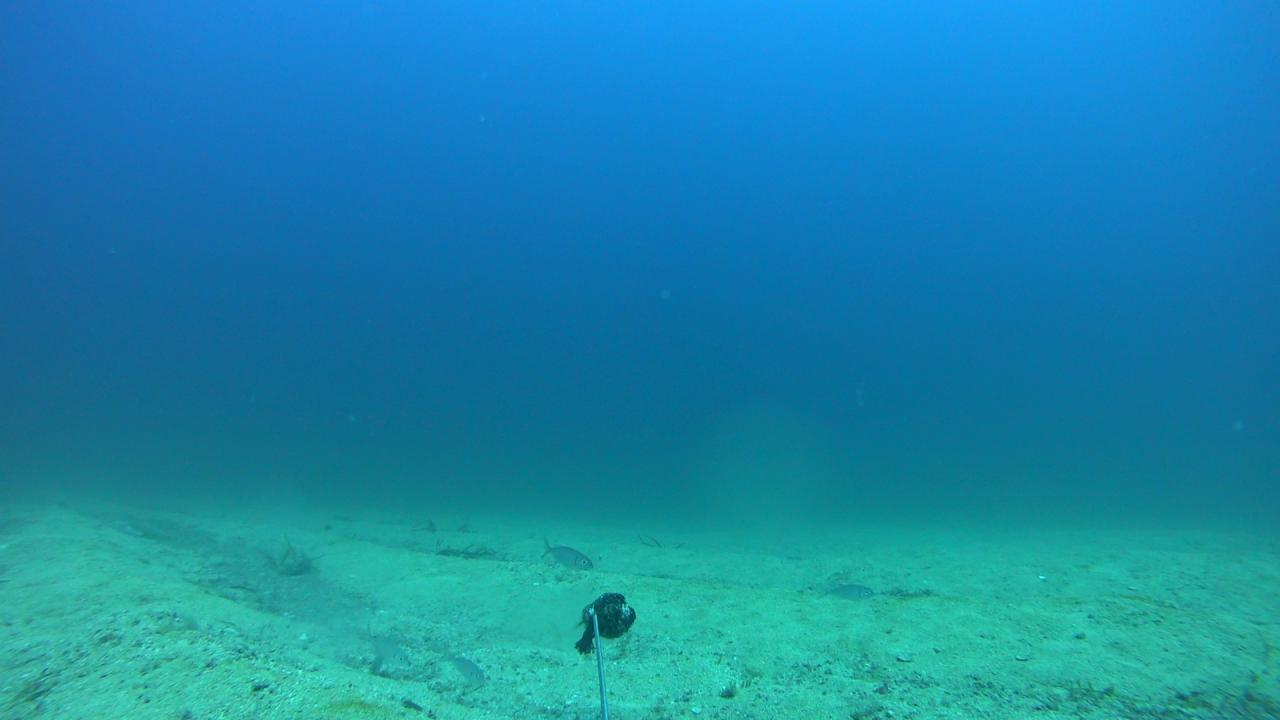pagellus: (359, 624, 411, 667), (540, 534, 594, 573), (441, 647, 487, 683), (816, 582, 874, 602)
